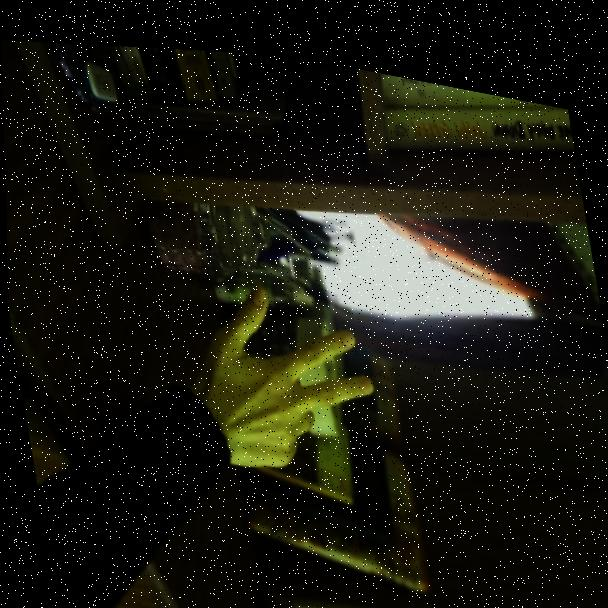three: (148, 227, 405, 535)
